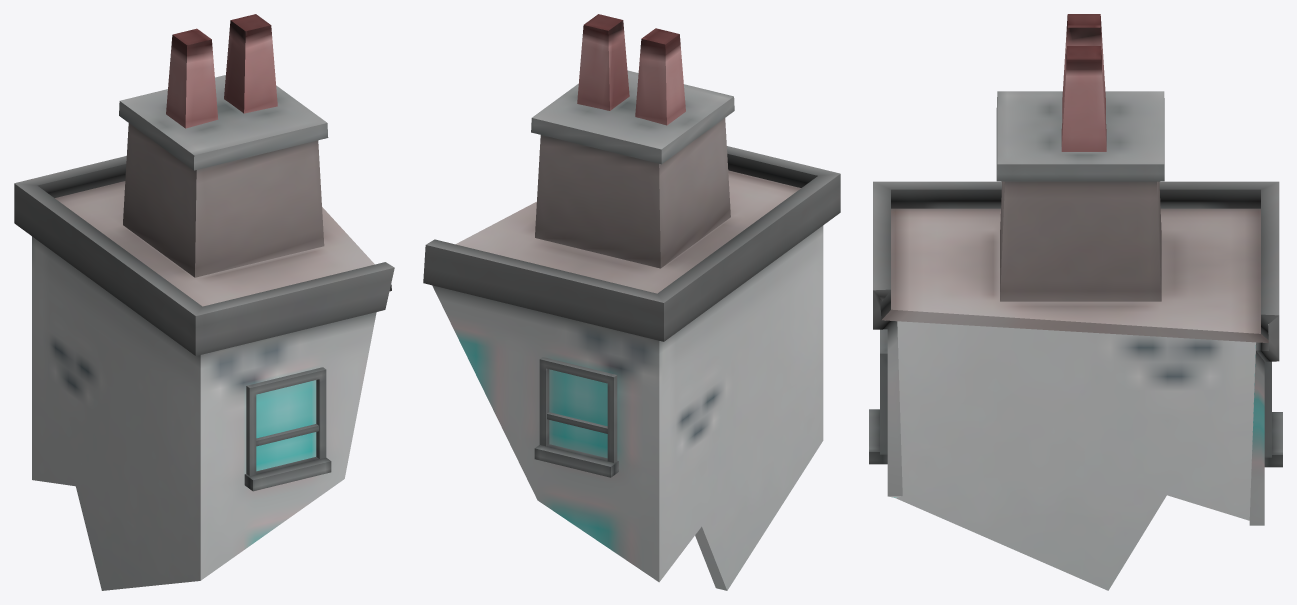
Rendered from B6Broke02.FBX.
3 views of the same model, side by side, from view 1: azimuth 30°, elevation 25°; view 2: azimuth 150°, elevation 25°; view 3: azimuth 270°, elevation 25° (orthographic). The views are drawn at different scales.
Parts seen in each view (by area): view 1: B6Broke02; view 2: B6Broke02; view 3: B6Broke02.
Part boxes in pixels (x1,y1,x2,y2): B6Broke02: (14, 14, 394, 590); B6Broke02: (423, 14, 840, 590); B6Broke02: (869, 14, 1282, 590).
Size of the model in its own units: 44.08 by 92 by 56.84.
